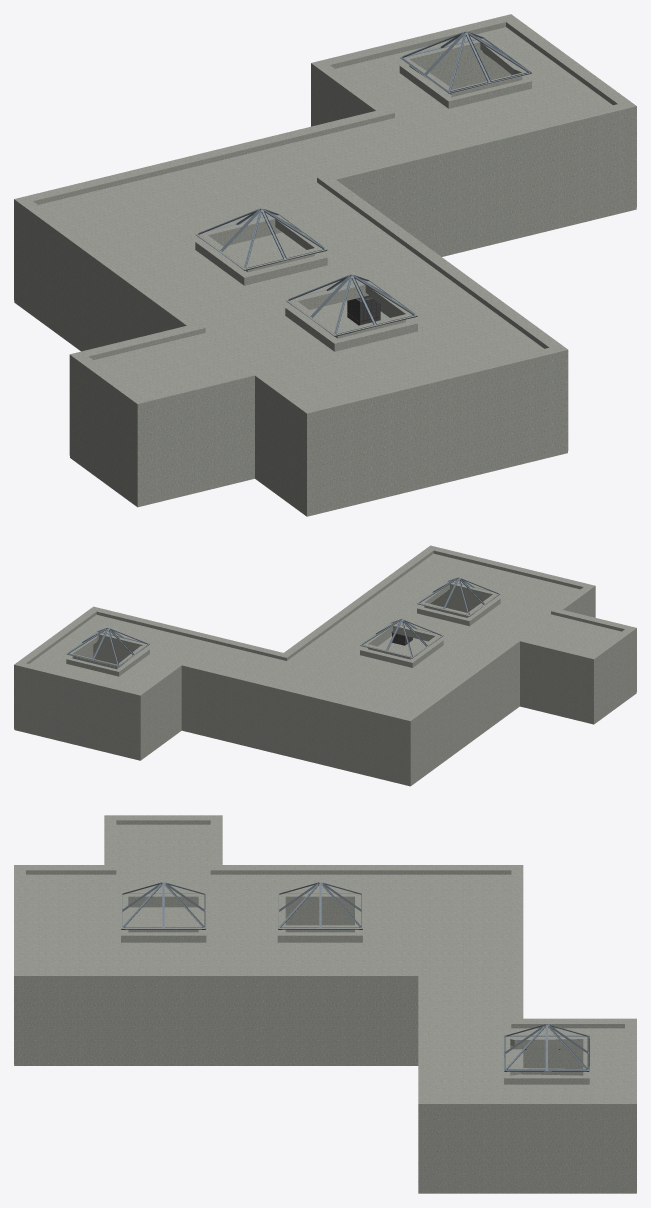
File: Test_Tour_Target_1.glb
3 renders of one model, top to bottom at view 1: azimuth 30°, elevation 25°; view 2: azimuth 150°, elevation 25°; view 3: azimuth 270°, elevation 25°, orthographic. The views are drawn at different scales.
Parts seen in each view (by area): view 1: Chair, Floor; view 2: Chair, Floor; view 3: Chair, Floor.
Part boxes in pixels (box(x1,y1,x2,y2)): Chair: box(14, 14, 636, 516); Floor: box(226, 232, 389, 330); Chair: box(14, 545, 636, 786); Floor: box(378, 636, 427, 654); Chair: box(14, 815, 636, 1193); Floor: box(128, 907, 523, 1068).
Bounding box in the file's own units: 27.04 × 5.64 × 24.68.
10 materials, 6 textured.
